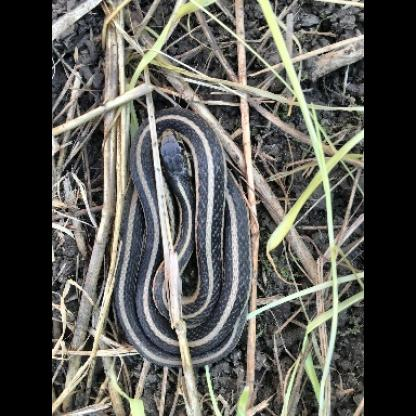Snake: (124, 109, 254, 363)
